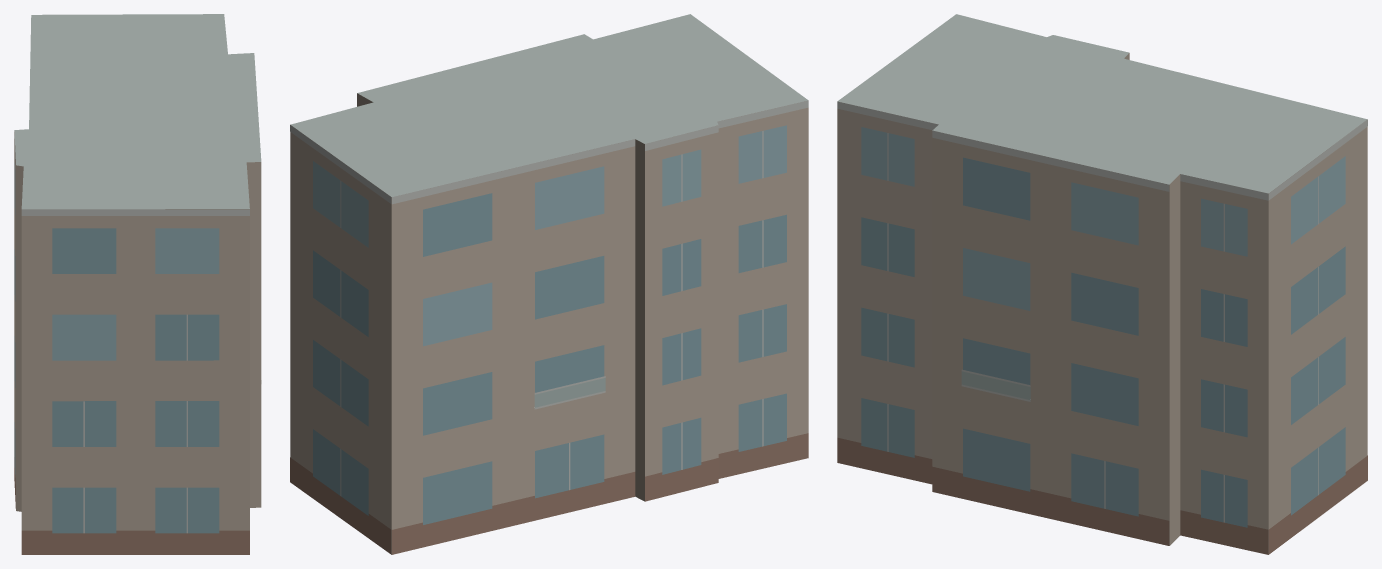
The model's file is survey-upis-32657219.glb.
The picture shows the model from 3 angles, left to right: view 1: azimuth 30°, elevation 25°; view 2: azimuth 150°, elevation 25°; view 3: azimuth 270°, elevation 25°; orthographic projection. The views are drawn at different scales.
Parts seen in each view (by area): view 1: survey-upis-32657219.tmp; view 2: survey-upis-32657219.tmp; view 3: survey-upis-32657219.tmp.
Part boxes in pixels (<box>): survey-upis-32657219.tmp: <box>14,14,261,554</box>; survey-upis-32657219.tmp: <box>290,14,808,554</box>; survey-upis-32657219.tmp: <box>837,14,1367,554</box>.
Bounding box in the file's own units: 13.01 × 12.2 × 16.24.
